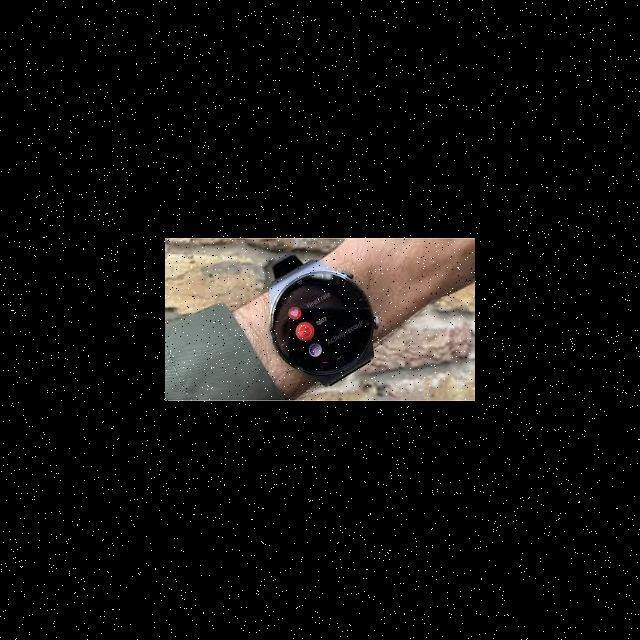watch: (200, 243, 422, 402)
